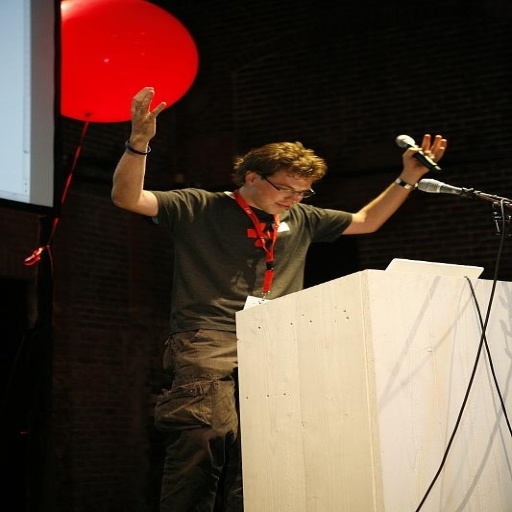hand: (383, 130, 464, 186), (127, 84, 167, 140)
